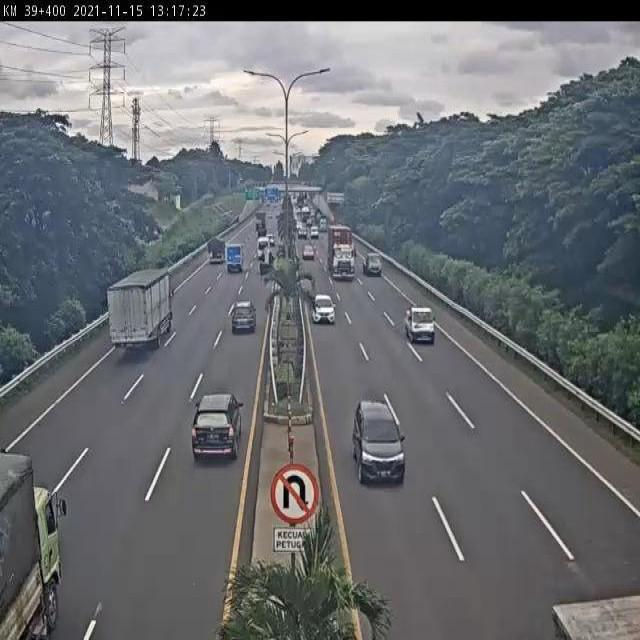car: (352, 399, 408, 484), (192, 392, 244, 468), (228, 297, 261, 339), (311, 292, 338, 325)
truck: (0, 449, 63, 640), (533, 582, 640, 640), (107, 267, 175, 353), (324, 220, 357, 281), (404, 304, 437, 344), (222, 241, 247, 272), (205, 237, 229, 267), (257, 248, 276, 279), (364, 248, 384, 275)
